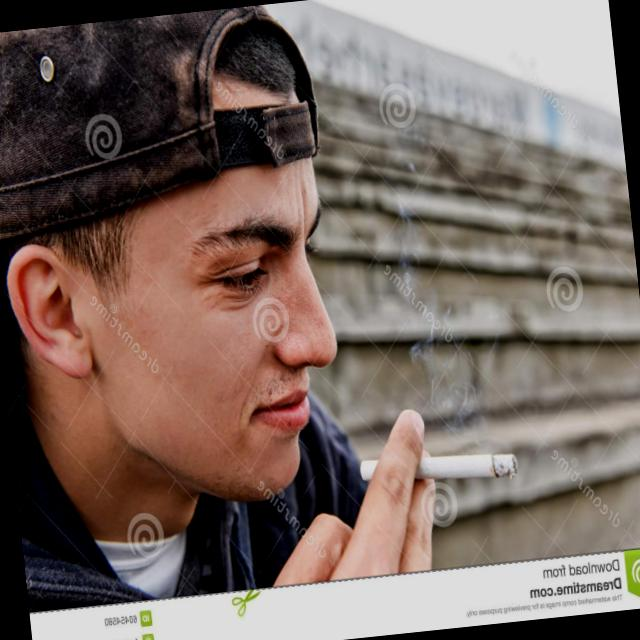cigarette: (334, 419, 548, 514)
